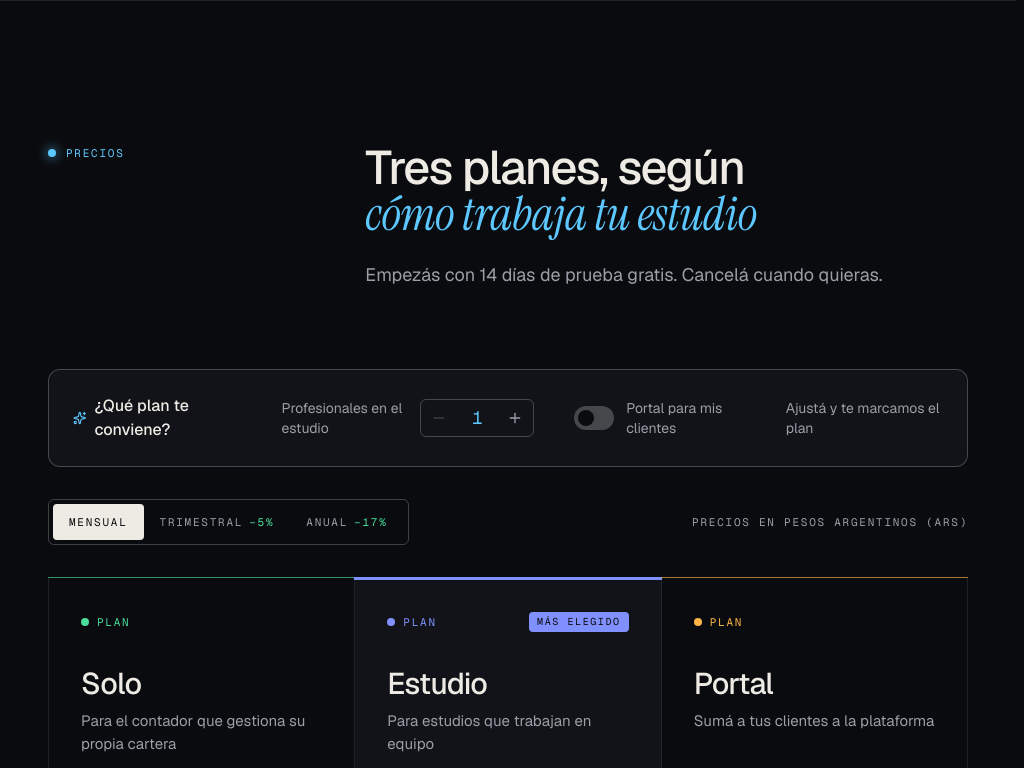
<Pricing> › highlights the recommended plan from the finder
This screenshot has width=1024, height=768.
Expected: the text "recomendado para vos" is not shown
Click the button named "más profesionales": (515, 418) left=497, top=400, right=533, bottom=436
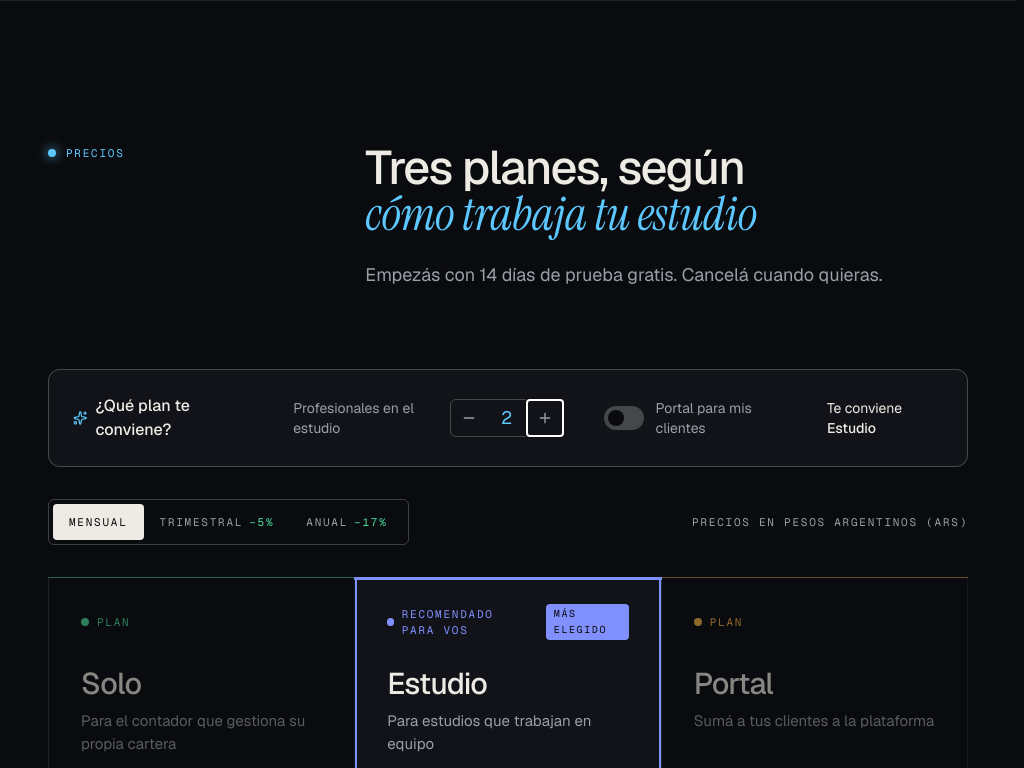
Expected: the text "Te conviene Estudio" is shown, left=827, top=399, right=902, bottom=437
Click the switch labelled "Portal para mis clientes": (695, 418) left=604, top=398, right=787, bottom=438
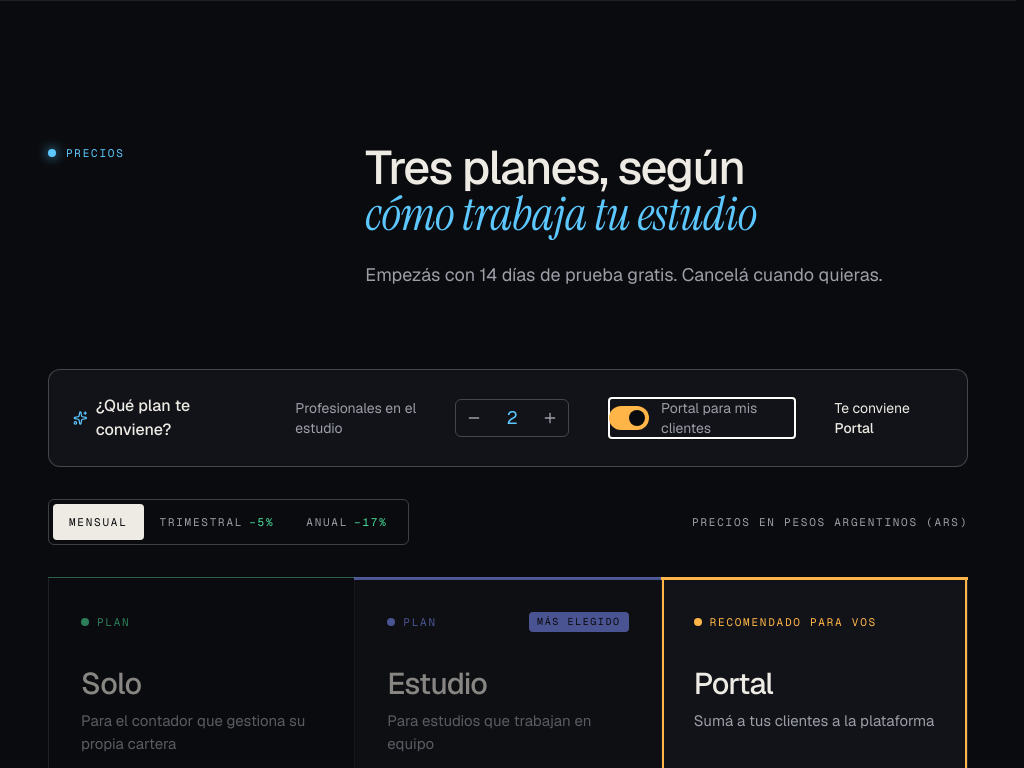
Expected: the text "Te conviene Portal" is shown, left=835, top=399, right=910, bottom=437
Expected: the text "Recomendado para vos" is shown, left=694, top=614, right=877, bottom=630
